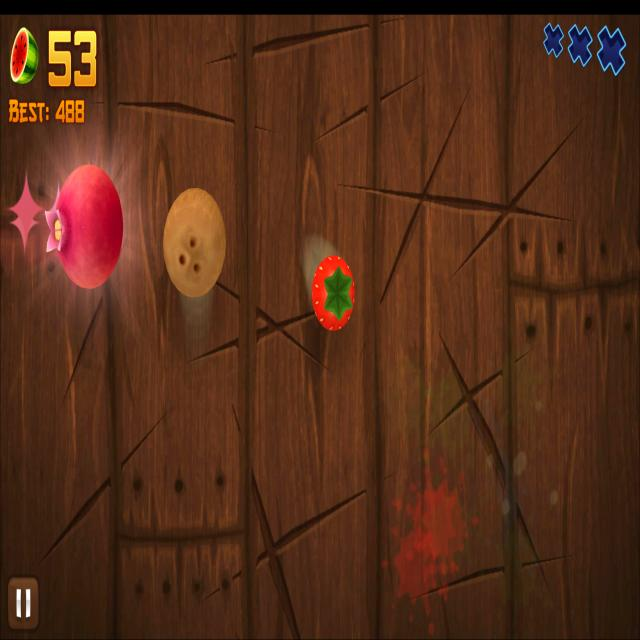fruit: (45, 163, 123, 290), (163, 188, 226, 298), (312, 255, 356, 332)
